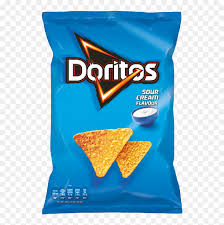Doritos: (56, 26, 165, 191)
